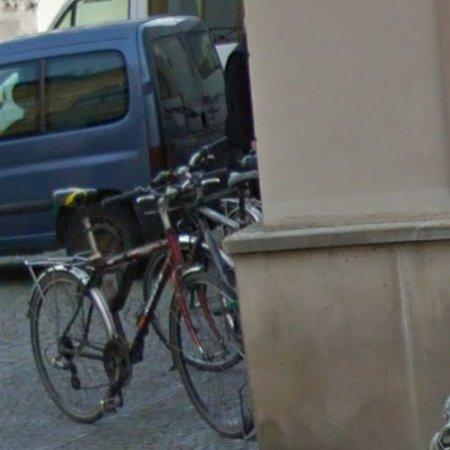bicycles: (25, 167, 253, 437), (139, 138, 262, 372)
